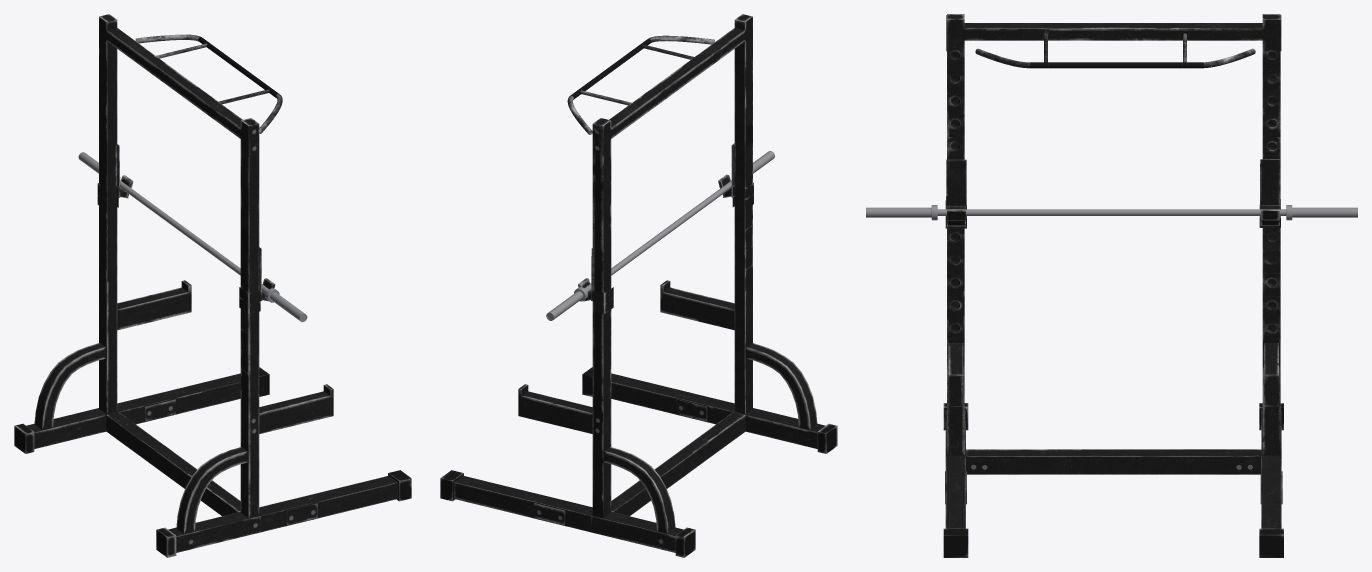
The model's file is rack.glb.
3 views of the same model, side by side, from view 1: azimuth 30°, elevation 25°; view 2: azimuth 150°, elevation 25°; view 3: azimuth 270°, elevation 25° (orthographic). The views are drawn at different scales.
Size of the model in its own units: 1.55 by 2.5 by 2.44.
2 materials, 2 textured.
